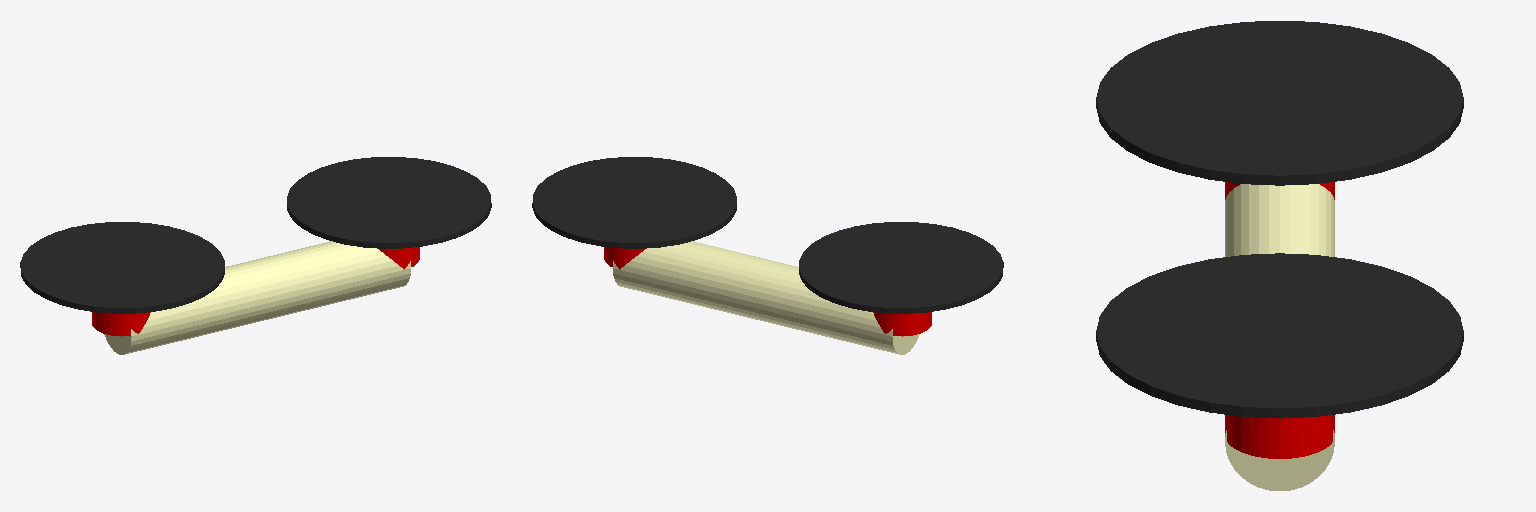
The robot description file, URDF, robot "bicopter":
<?xml version="1.0"?>
<!-- This Bicopter is modelled after the one described in Mansard et al., Using a Memory of Motion to Efficiently Warm-Start a Nonlinear Predictive Controller, ICRA'2018 (https://hal.archives-ouvertes.fr/hal-01591373) -->
<!-- https://github.com/nmansard/irepa/blob/140aed111a5e1713f970f190934c1c63ea7c578a/python/bicopter.py -->
<robot name="bicopter">
    <material name="blue">
        <color rgba="1 1 .78 1"/>
    </material>
    <material name="red">
        <color rgba="1 0 0 1"/>
    </material>
    <material name="grey">
        <color rgba=".2 .2 .2 1"/>
    </material>
    <!-- Add base link; NB: we use cylinder instead of capsule -->
    <link name="base_link">
        <visual>
            <geometry>
                <cylinder length="0.525" radius="0.05"/>
            </geometry>
            <material name="blue"/>
            <origin rpy="0 -1.57079632679 0" xyz="0 0 0" />
        </visual>
        <collision>
            <geometry>
                <cylinder length="0.525" radius="0.05"/>
            </geometry>
            <origin rpy="0 -1.57079632679 0" xyz="0 0 0" />
        </collision>
        <!--<inertial>
            <mass value="2.5"/>
            <!-/- Iz = 1/2*m*r^2=0.003125, Ixx=1/12*m*(3r^2+h^2)=0.58984375 -/->
            <inertia ixx="0.58984375" ixy="0.0" ixz="0.0" iyy="0.58984375" iyz="0.0" izz="0.003125"/>
        </inertial>-->
    </link>
    <!-- Add motors -->
    <link name="motor1">
        <visual>
            <geometry>
                <cylinder length="0.1" radius="0.05"/>
            </geometry>
            <material name="red"/>
        </visual>
        <collision>
            <geometry>
                <cylinder length="0.1" radius="0.05"/>
            </geometry>
        </collision>
    </link>
    <link name="motor2">
        <visual>
            <geometry>
                <cylinder length="0.1" radius="0.05"/>
            </geometry>
            <material name="red"/>
        </visual>
        <collision>
            <geometry>
                <cylinder length="0.1" radius="0.05"/>
            </geometry>
        </collision>
    </link>
    <!-- Add propellers -->
    <link name="propeller1">
        <visual>
            <geometry>
                <cylinder length="0.01" radius="0.1667"/>
            </geometry>
            <material name="grey"/>
        </visual>
        <collision>
            <geometry>
                <cylinder length="0.01" radius="0.1667"/>
            </geometry>
        </collision>
    </link>
    <link name="propeller2">
        <visual>
            <geometry>
                <cylinder length="0.01" radius="0.1667"/>
            </geometry>
            <material name="grey"/>
        </visual>
        <collision>
            <geometry>
                <cylinder length="0.01" radius="0.1667"/>
            </geometry>
        </collision>
    </link>
    <!-- Build everything together -->
    <joint name="base_to_motor1" type="fixed">
        <parent link="base_link"/>
        <child link="motor1"/>
        <origin rpy="0 0 0" xyz="0.25 0 0.05"/>
        <axis xyz="0 0 1"/>
    </joint>
    <joint name="base_to_motor2" type="fixed">
        <parent link="base_link"/>
        <child link="motor2"/>
        <origin rpy="0 0 0" xyz="-0.25 0 0.05"/>
        <axis xyz="0 0 1"/>
    </joint>
    <joint name="motor1_to_propeller1" type="fixed">
        <parent link="base_link"/>
        <child link="propeller1"/>
        <origin rpy="0 0 0" xyz="0.25 0 0.1"/>
        <axis xyz="0 0 1"/>
        <limit effort="25" lower="-2.9" upper="2.9" velocity="2" />
    </joint>
    <joint name="motor2_to_propeller2" type="fixed">
        <parent link="base_link"/>
        <child link="propeller2"/>
        <origin rpy="0 0 0" xyz="-0.25 0 0.1"/>
        <axis xyz="0 0 1"/>
        <limit effort="25" lower="-2.9" upper="2.9" velocity="2" />
    </joint>
</robot>

--- What the picture shows (computed from the rendered views, not written in the file) ---
The picture shows the robot from 3 angles, left to right: view 1: azimuth 30°, elevation 25°; view 2: azimuth 150°, elevation 25°; view 3: azimuth 270°, elevation 25°; orthographic projection.
Model bicopter with 5 links and 4 joints (4 fixed), rooted at base_link, posed all joints at 0.
Visible links, largest first — view 1: propeller1, propeller2, base_link, motor2, motor1; view 2: propeller1, propeller2, base_link, motor2, motor1; view 3: propeller1, propeller2, base_link, motor1.
Boxes of the visible links, <box> form: propeller1: <box>287,157,491,248</box>; propeller2: <box>20,222,224,313</box>; base_link: <box>104,241,410,354</box>; motor2: <box>92,312,150,336</box>; motor1: <box>377,247,419,269</box>; propeller1: <box>532,157,736,248</box>; propeller2: <box>799,222,1003,313</box>; base_link: <box>613,241,919,354</box>; motor2: <box>873,312,931,336</box>; motor1: <box>604,247,646,269</box>; propeller1: <box>1096,253,1463,418</box>; propeller2: <box>1096,21,1463,185</box>; base_link: <box>1225,184,1334,490</box>; motor1: <box>1225,415,1334,458</box>.
Bounding box of the posed robot: 0.8334 × 0.3334 × 0.155 m (x, y, z).
Geometry: primitives only (box / cylinder / sphere), no mesh files.